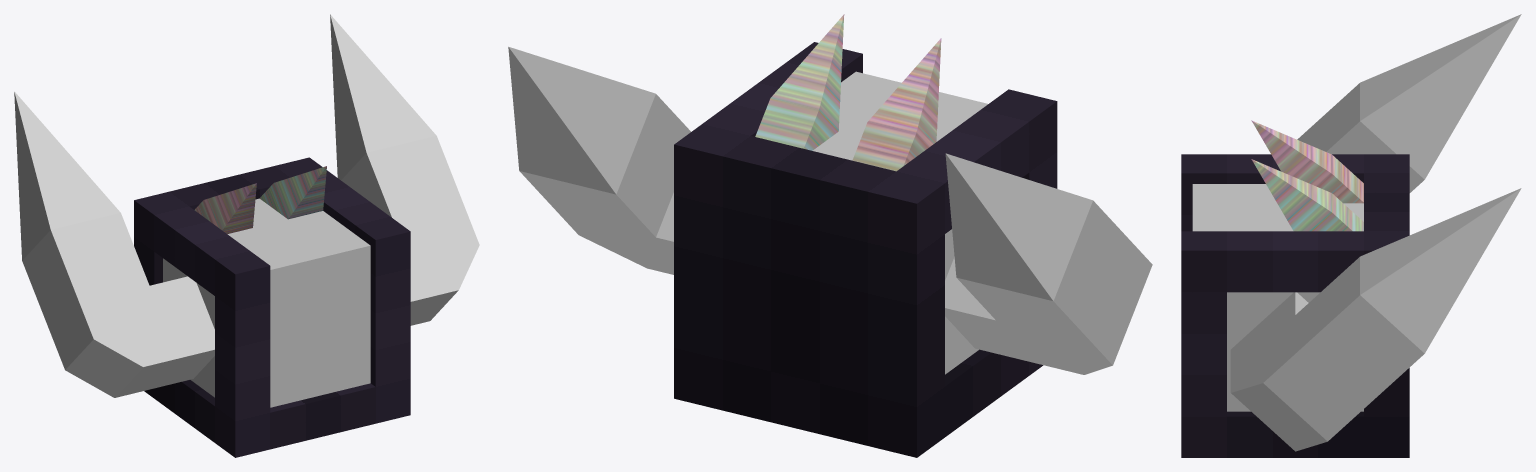
Rendered from head_smart.obj.
3 renders of one model, left to right at view 1: azimuth 30°, elevation 25°; view 2: azimuth 150°, elevation 25°; view 3: azimuth 270°, elevation 25°, orthographic. The views are drawn at different scales.
Parts seen in each view (by area): view 1: HEAD_SMART_OBSIDIAN_Cube.377; view 2: HEAD_SMART_OBSIDIAN_Cube.377; view 3: HEAD_SMART_OBSIDIAN_Cube.377.
Boxes of the visible parts, <box> form: HEAD_SMART_OBSIDIAN_Cube.377: <box>14,14,479,457</box>; HEAD_SMART_OBSIDIAN_Cube.377: <box>508,14,1152,457</box>; HEAD_SMART_OBSIDIAN_Cube.377: <box>1181,14,1521,457</box>.
Size of the model in its own units: 0.6875 by 0.4656 by 0.4656.
